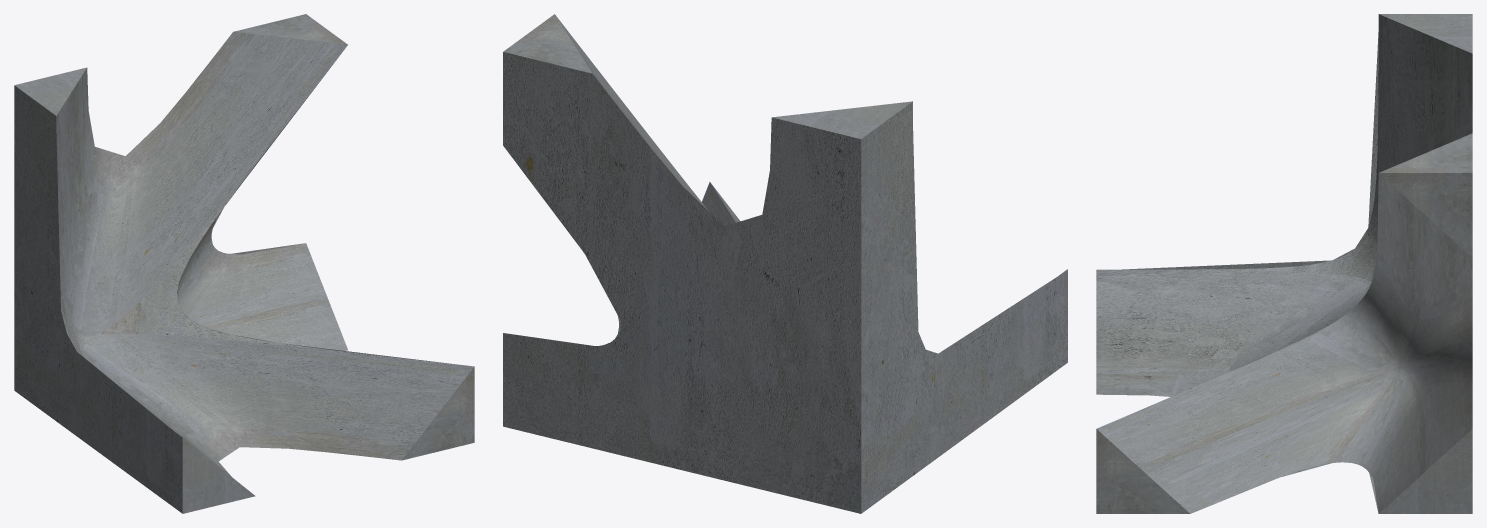
The model's file is module_P3.fbx.
3 views of the same model, side by side, from view 1: azimuth 30°, elevation 25°; view 2: azimuth 150°, elevation 25°; view 3: azimuth 270°, elevation 25° (orthographic). The views are drawn at different scales.
Parts seen in each view (by area): view 1: modules; view 2: modules; view 3: modules.
Boxes of the visible parts, x1,y1,x2,y2 form: modules: (14, 14, 474, 513); modules: (503, 14, 1067, 513); modules: (1096, 14, 1472, 513).
Bounding box in the file's own units: 1000 × 1000 × 1000.
1 material, 1 textured.
